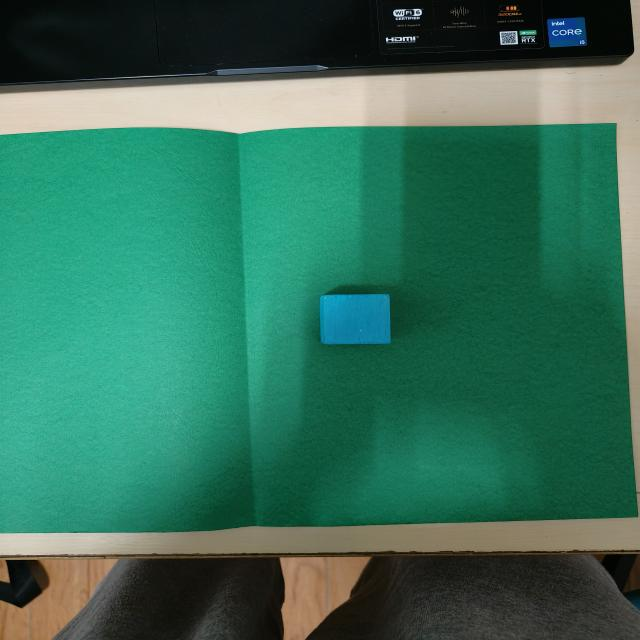blue_block: (321, 295, 390, 344)
